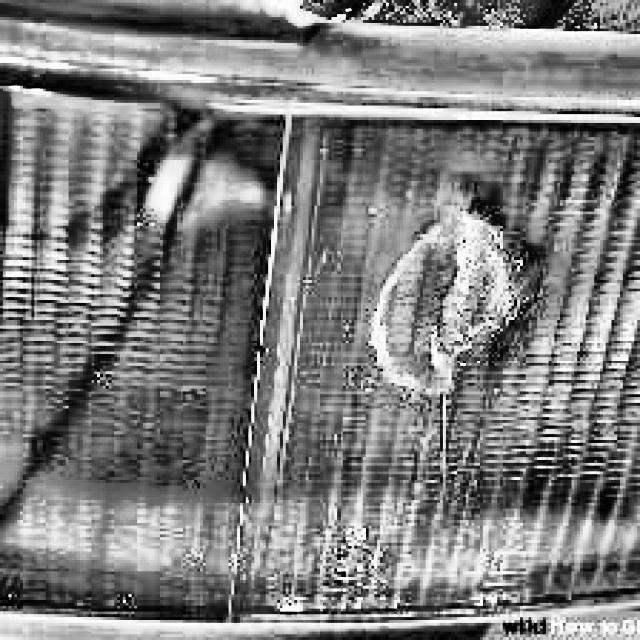tail_lamp: (373, 213, 522, 406)
